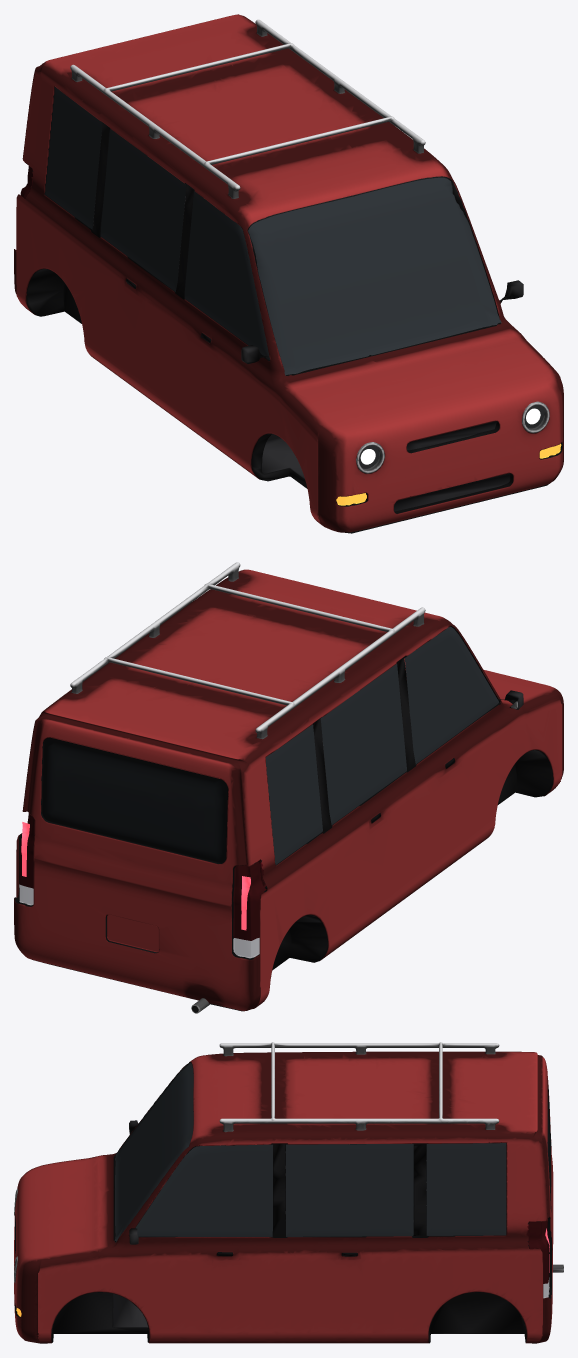
Rendered from mochi.glb.
3 renders of one model, top to bottom at view 1: azimuth 30°, elevation 25°; view 2: azimuth 150°, elevation 25°; view 3: azimuth 270°, elevation 25°, orthographic. The views are drawn at different scales.
Parts seen in each view (by area): view 1: paint, window, trim, chrome, grille, interior; view 2: paint, window, glass, trim, chrome, tail, reverse, tailglow; view 3: paint, window, trim, chrome, interior, tail.
Part boxes in pixels (x1=…): paint: x1=14, y1=14, x2=563, y2=532; window: x1=45, y1=87, x2=501, y2=375; trim: x1=26, y1=86, x2=562, y2=533; chrome: x1=70, y1=19, x2=549, y2=473; grille: x1=394, y1=421, x2=510, y2=511; interior: x1=93, y1=135, x2=304, y2=479; paint: x1=14, y1=569, x2=563, y2=1011; window: x1=265, y1=626, x2=498, y2=864; glass: x1=41, y1=737, x2=228, y2=863; trim: x1=14, y1=626, x2=553, y2=1011; chrome: x1=70, y1=562, x2=517, y2=1013; tail: x1=19, y1=813, x2=266, y2=940; reverse: x1=19, y1=884, x2=259, y2=958; tailglow: x1=21, y1=822, x2=250, y2=930; paint: x1=14, y1=1051, x2=553, y2=1343; window: x1=114, y1=1063, x2=506, y2=1242; trim: x1=14, y1=1061, x2=552, y2=1343; chrome: x1=14, y1=1042, x2=563, y2=1282; interior: x1=112, y1=1143, x2=427, y2=1327; tail: x1=526, y1=1221, x2=549, y2=1283.
Size of what is drawn, in the model's own units: 1.69 by 1.52 by 3.44.
